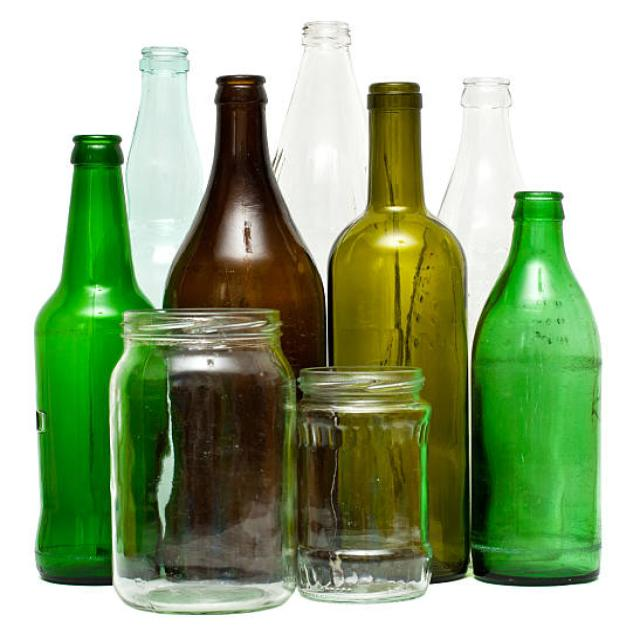glass: (117, 311, 295, 618), (470, 189, 605, 587), (160, 65, 320, 297), (299, 358, 436, 606), (334, 76, 464, 306), (33, 133, 144, 300)
